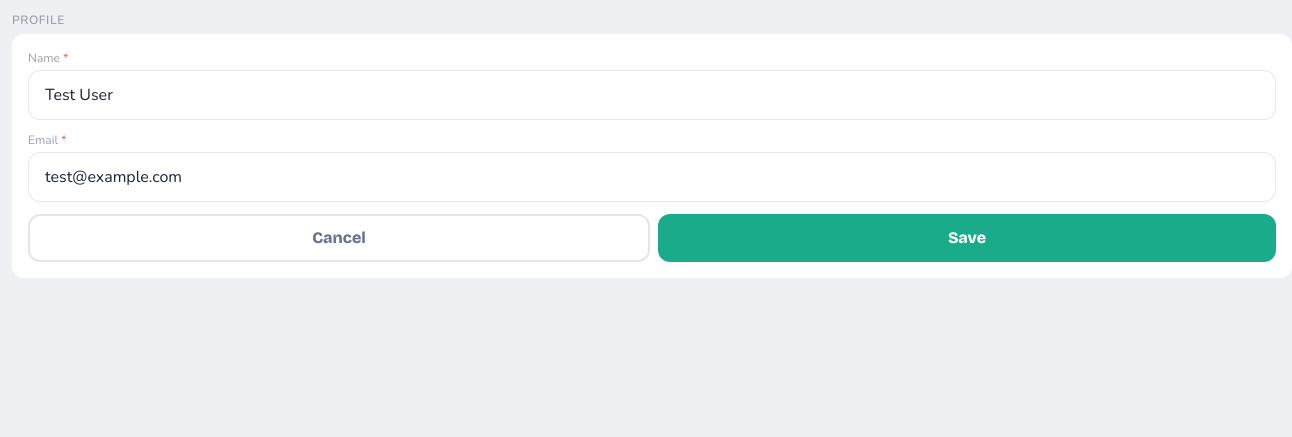
Test case: ProfileSection › shows password field when email is changed
The width and height of the screenshot is (1292, 437).
Replace the text in the field showing "test@example.com" with "new@example.com" at (652, 177), box [28,152,1276,202]
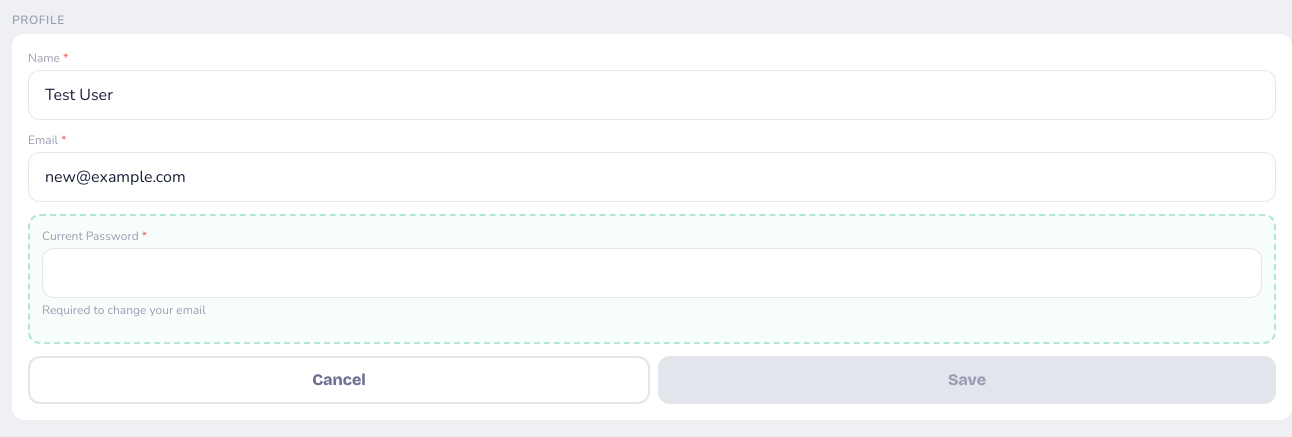
Check: the text "Required to change your email" is shown, box [42,302,206,318]
